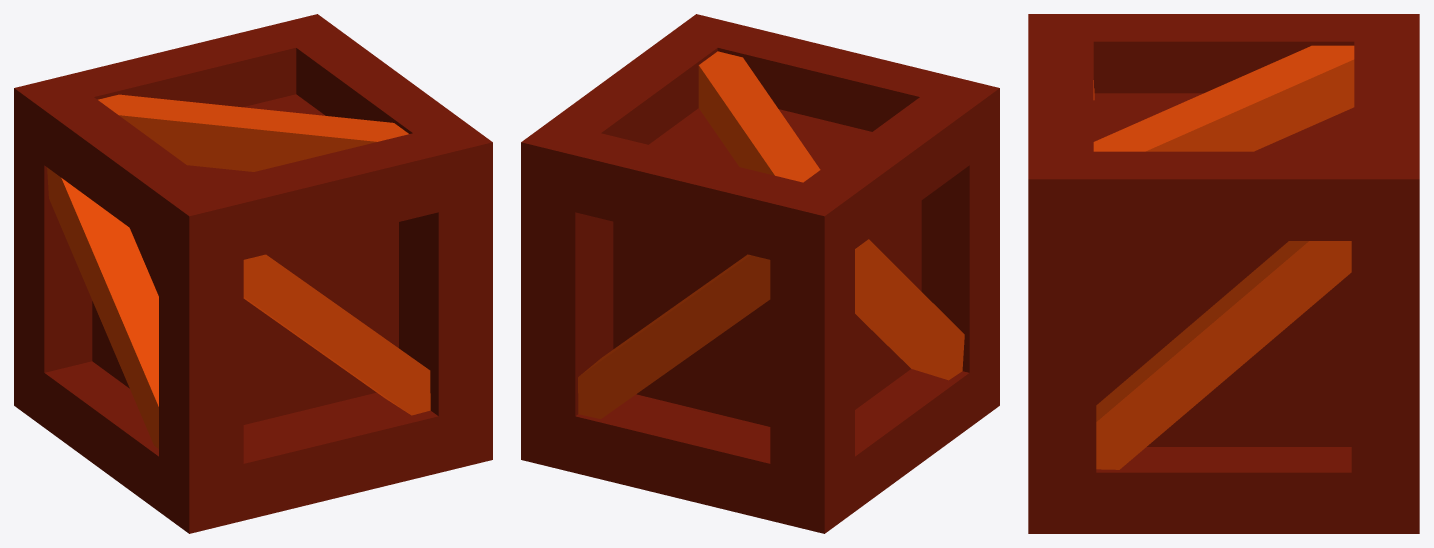
3 views of the same model, side by side, from view 1: azimuth 30°, elevation 25°; view 2: azimuth 150°, elevation 25°; view 3: azimuth 270°, elevation 25° (orthographic). The views are drawn at different scales.
Visible parts, largest first — view 1: pCube8; view 2: pCube8; view 3: pCube8.
Part boxes in pixels (x1,y1,x2,y2): pCube8: [14, 14, 492, 533]; pCube8: [521, 14, 999, 533]; pCube8: [1028, 14, 1419, 533].
Size of the model in its own units: 7.38 by 7.38 by 7.38.
